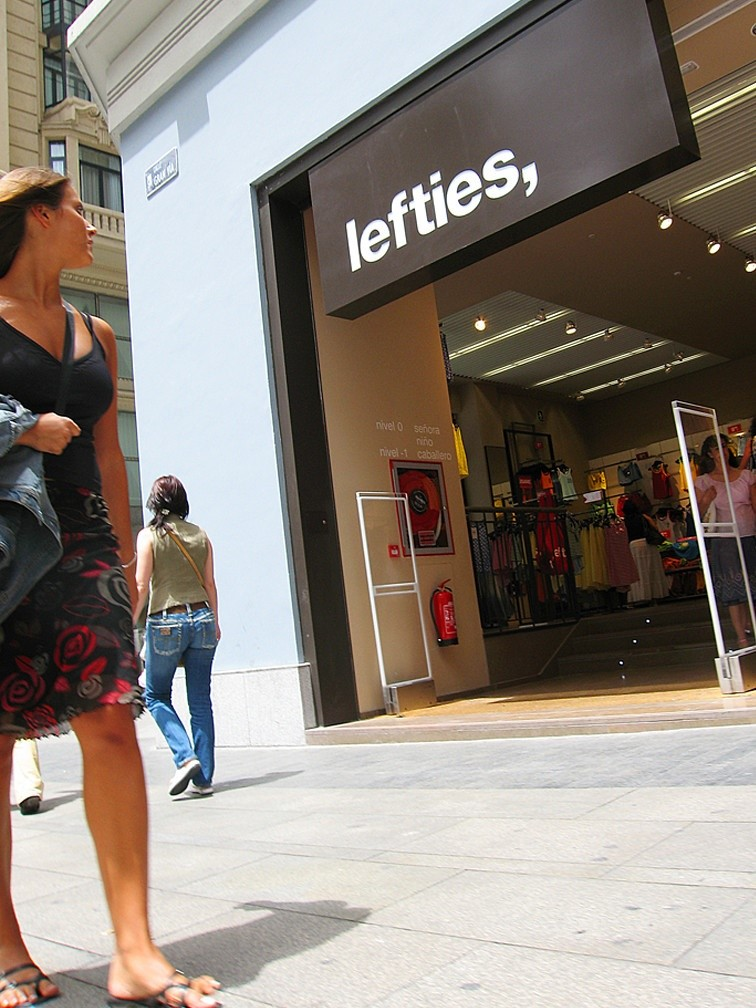face_no_mask: (2, 166, 99, 269)
